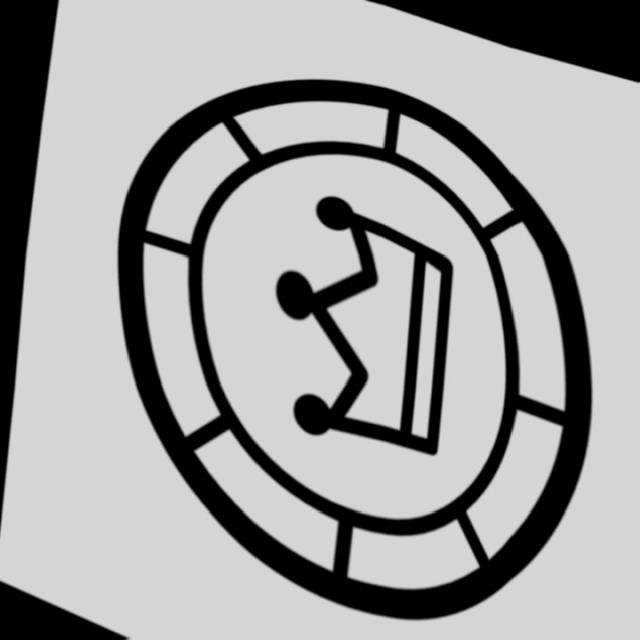coin: (105, 74, 603, 632)
